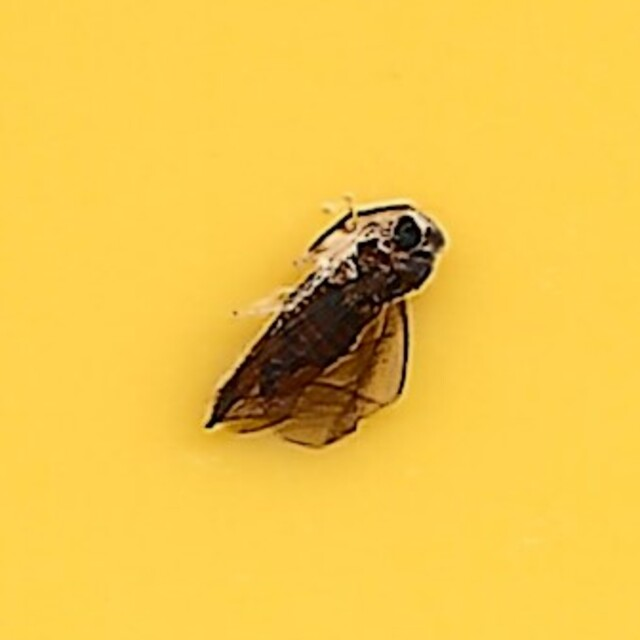Hemiptera: (190, 188, 450, 452)
